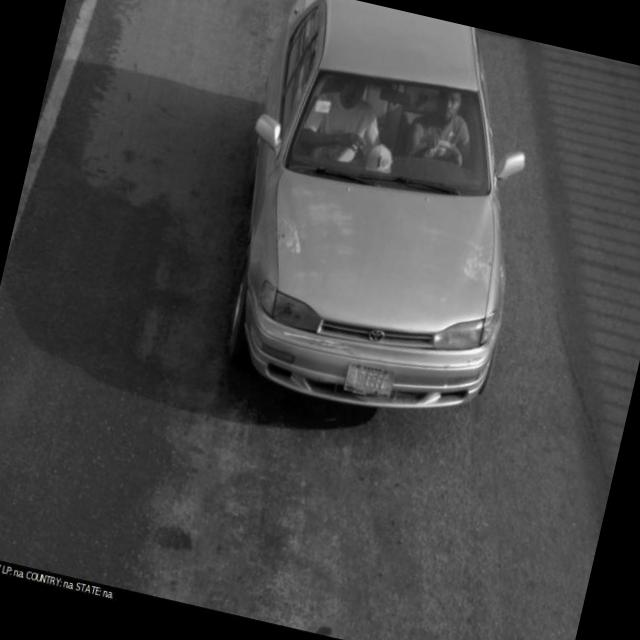person_without_seatbelt: (381, 80, 502, 196)
